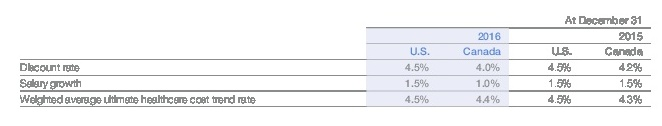table: (0, 0, 662, 126)
